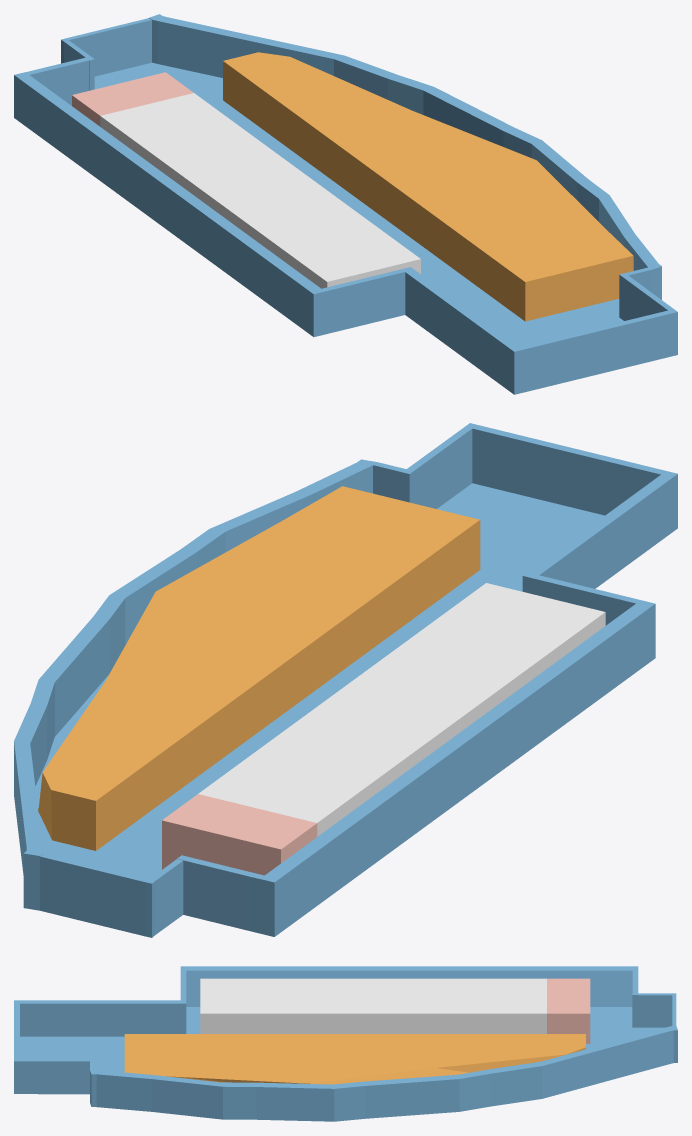
3 views of the same model, one above another, from view 1: azimuth 30°, elevation 25°; view 2: azimuth 150°, elevation 25°; view 3: azimuth 270°, elevation 25° (orthographic). The views are drawn at different scales.
Visible parts, largest first — view 1: object, レストラン, 女子トイレ_グリーントップ_1; view 2: object, レストラン, 女子トイレ_グリーントップ_1; view 3: object, レストラン, 女子トイレ_グリーントップ_1.
Boxes of the visible parts, left/top/right/bottom form: object: left=14, top=14, right=677, bottom=394; レストラン: left=223, top=52, right=633, bottom=321; 女子トイレ_グリーントップ_1: left=72, top=72, right=193, bottom=126; object: left=14, top=423, right=677, bottom=937; レストラン: left=38, top=486, right=480, bottom=850; 女子トイレ_グリーントップ_1: left=162, top=794, right=317, bottom=875; object: left=14, top=966, right=677, bottom=1121; レストラン: left=124, top=1034, right=585, bottom=1084; 女子トイレ_グリーントップ_1: left=547, top=978, right=590, bottom=1043.
Bounding box in the file's own units: 1.56 × 0.1985 × 3.58.
